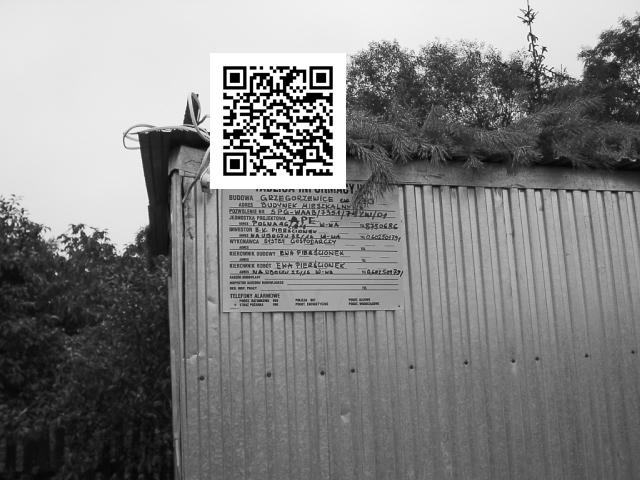qr_code: (210, 52, 345, 188)
